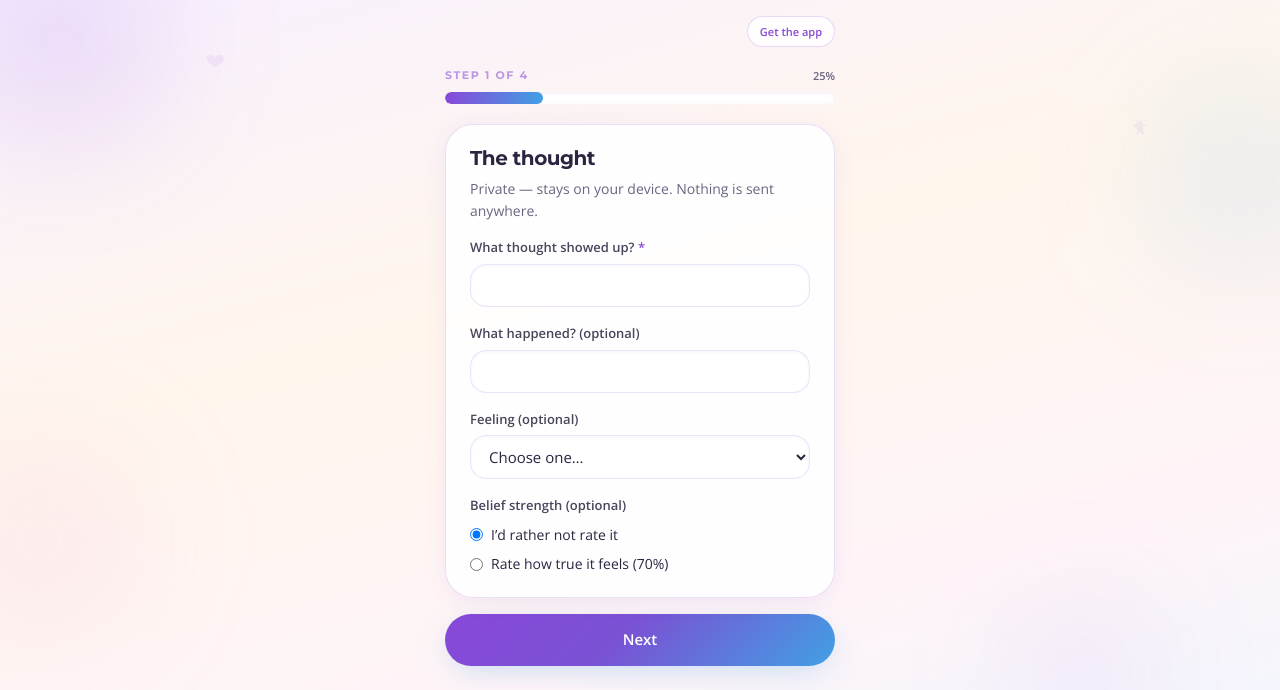
Scenario: ThoughtChallengerPlay step 3 › changes to Continue after selecting a reflection prompt
Type "They hate me" into the field labelled "What thought showed up? *". click: point(640, 286)
box: [470,264,810,307]
Click the button "Next". click: point(640, 640)
box: [445,614,835,666]
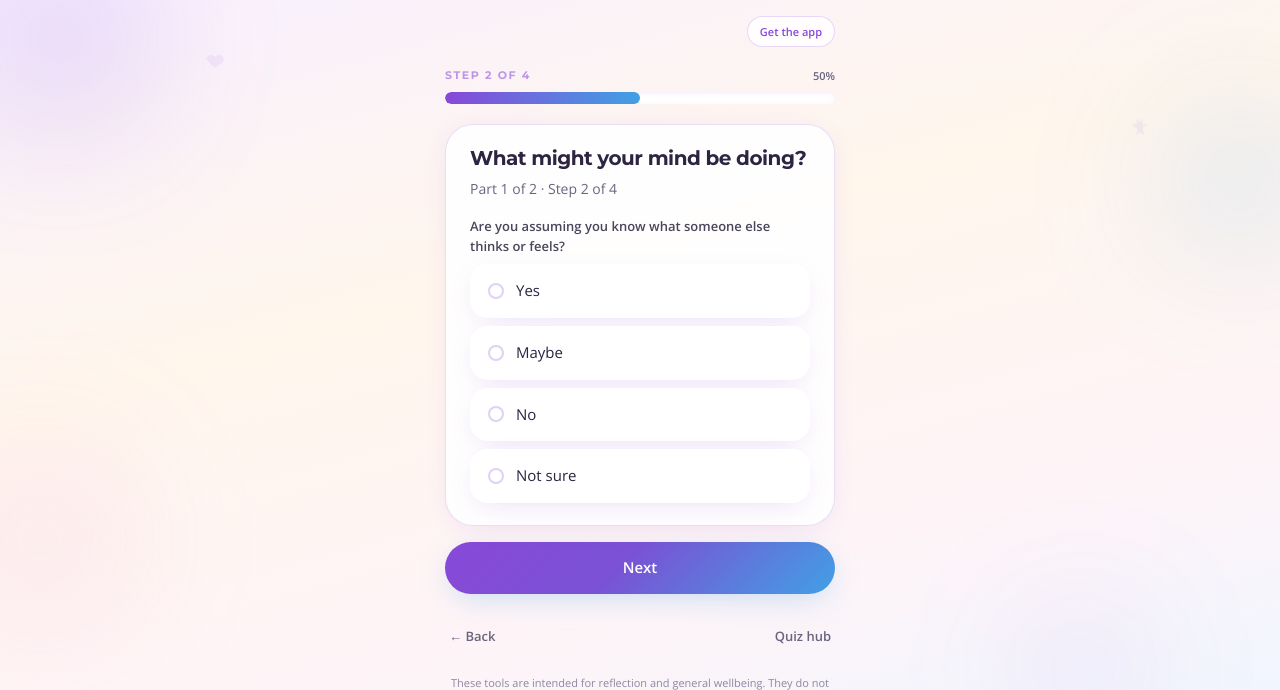
Click the radio button labelled "No". click: point(496, 414)
box: [470,388,810,441]
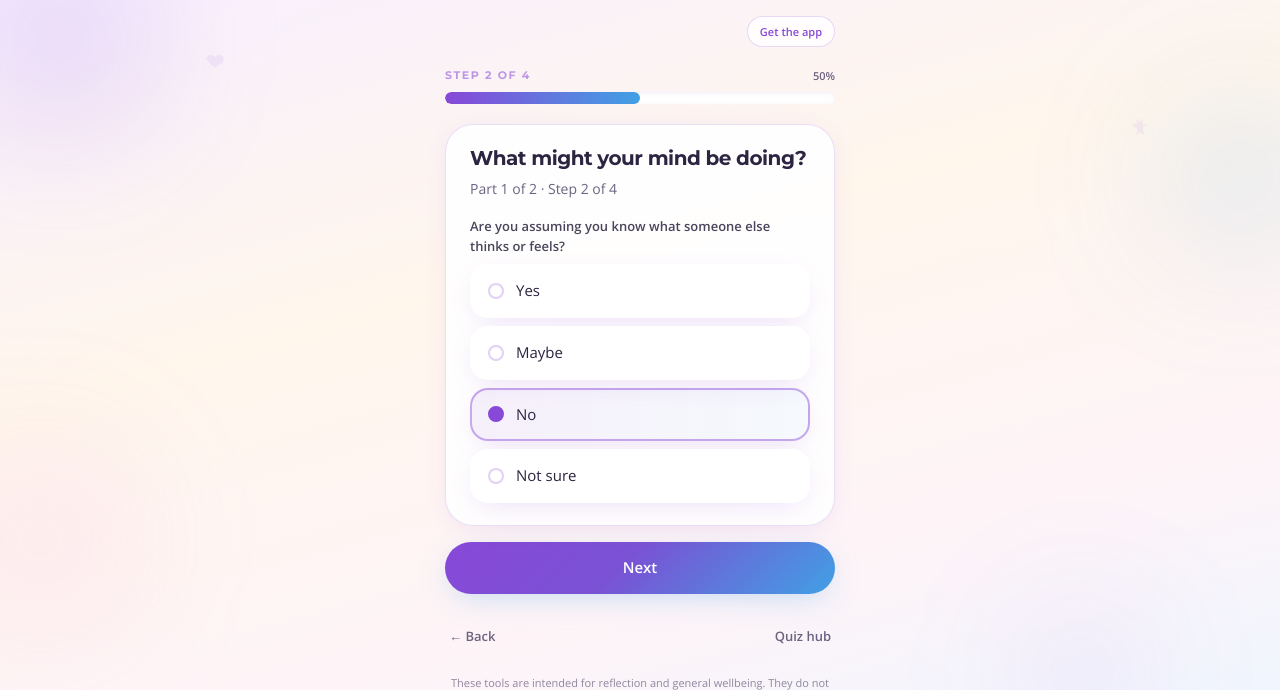
Click the button "Next". click: point(640, 568)
box: [445,542,835,594]
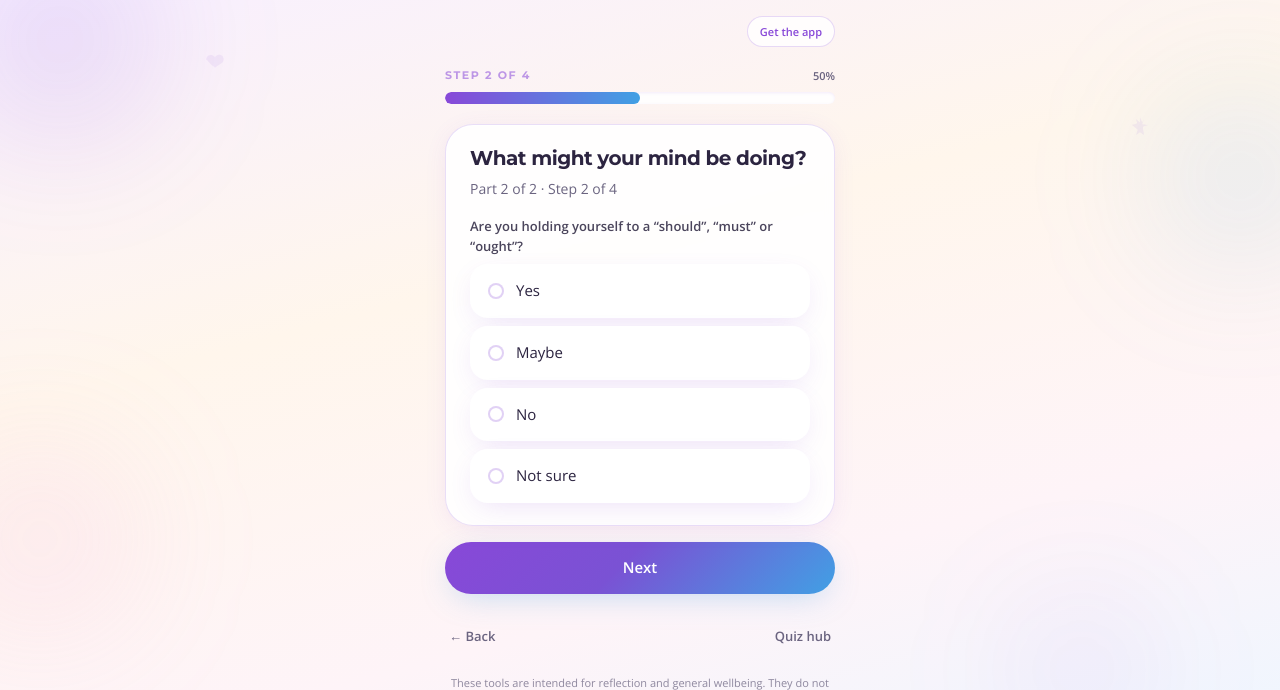
Click the radio button labelled "No". click: point(496, 414)
box: [470,388,810,441]
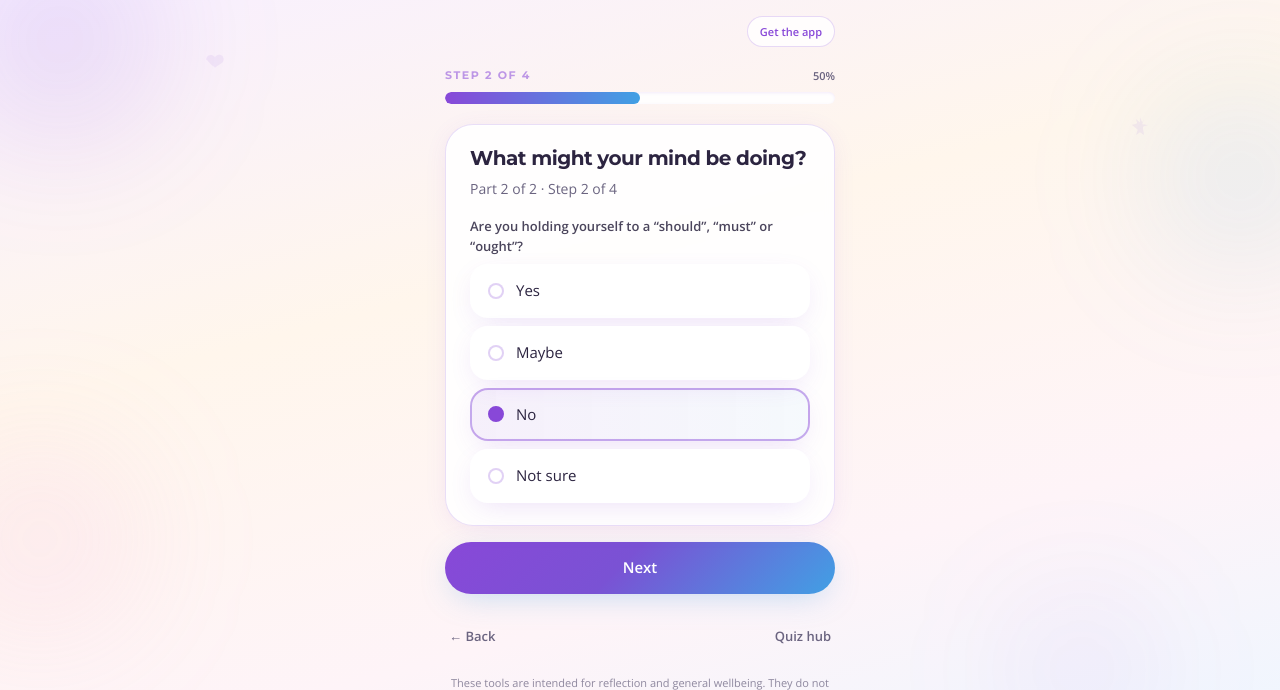
Click the button "Next". click: point(640, 568)
box: [445,542,835,594]
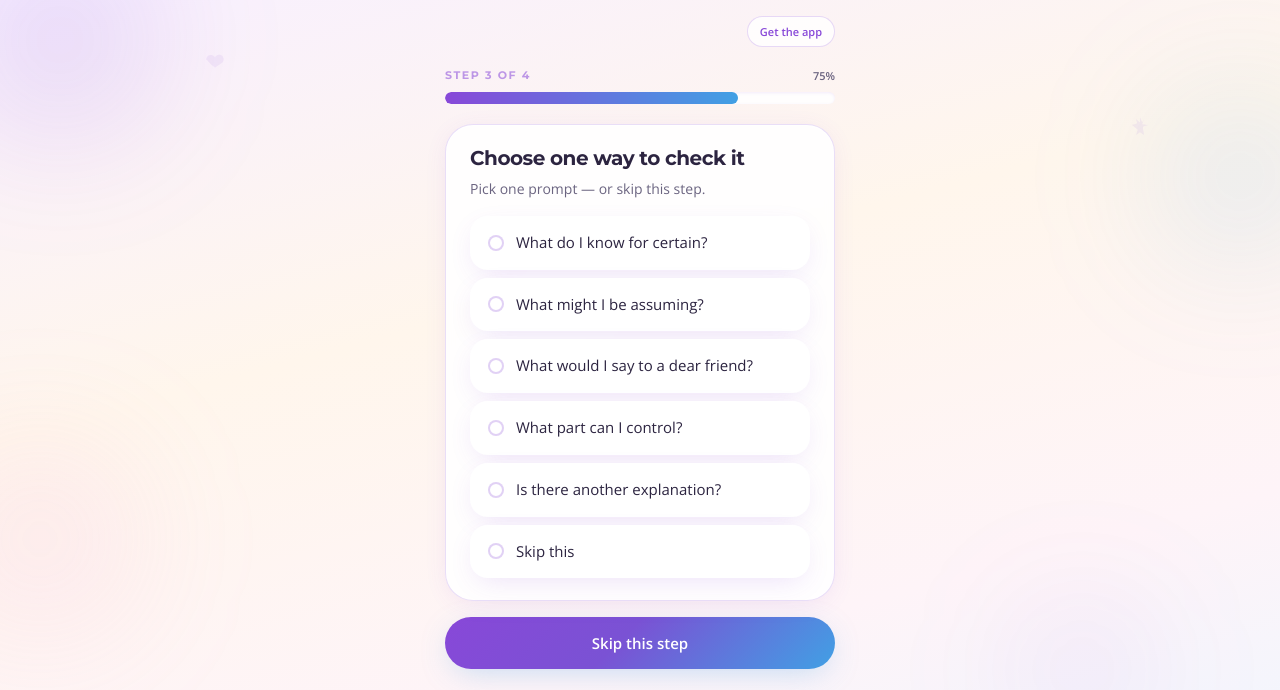
Click the radio button labelled "What do I know for certain?". click: point(640, 243)
box: [470,216,810,270]
(page scrolled)
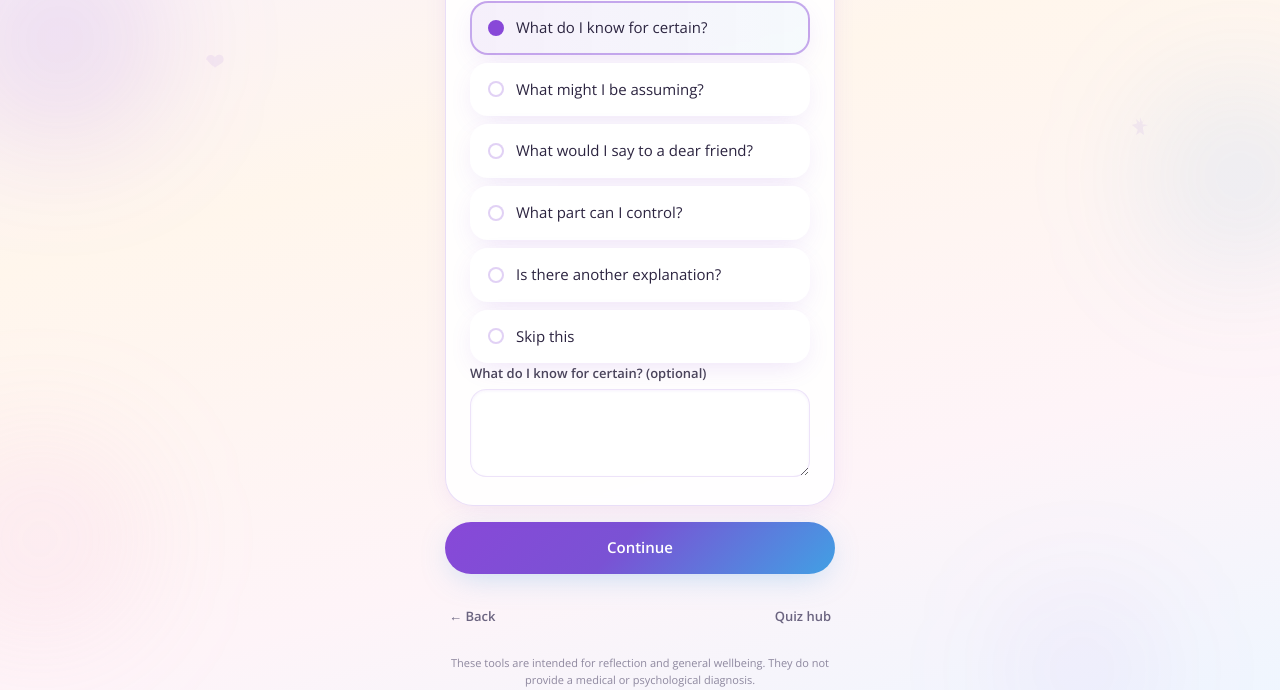
Result: the button "Continue" is shown at [445,522,835,574]
